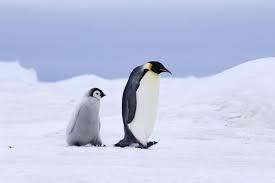emporer: (111, 51, 178, 165)
